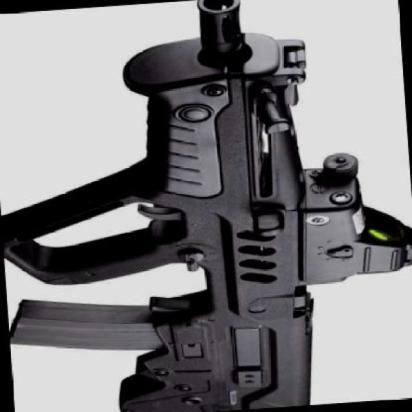Gun: (0, 0, 405, 412)
